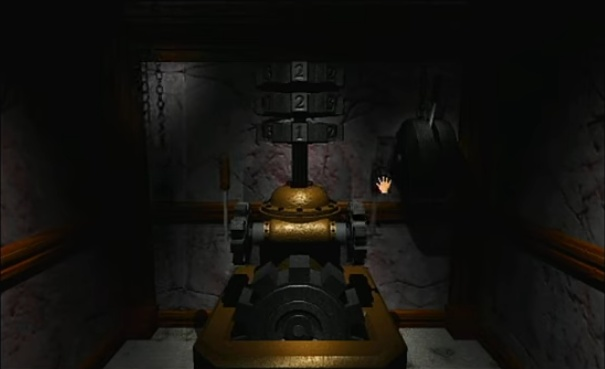Pointer: (371, 172, 396, 195)
